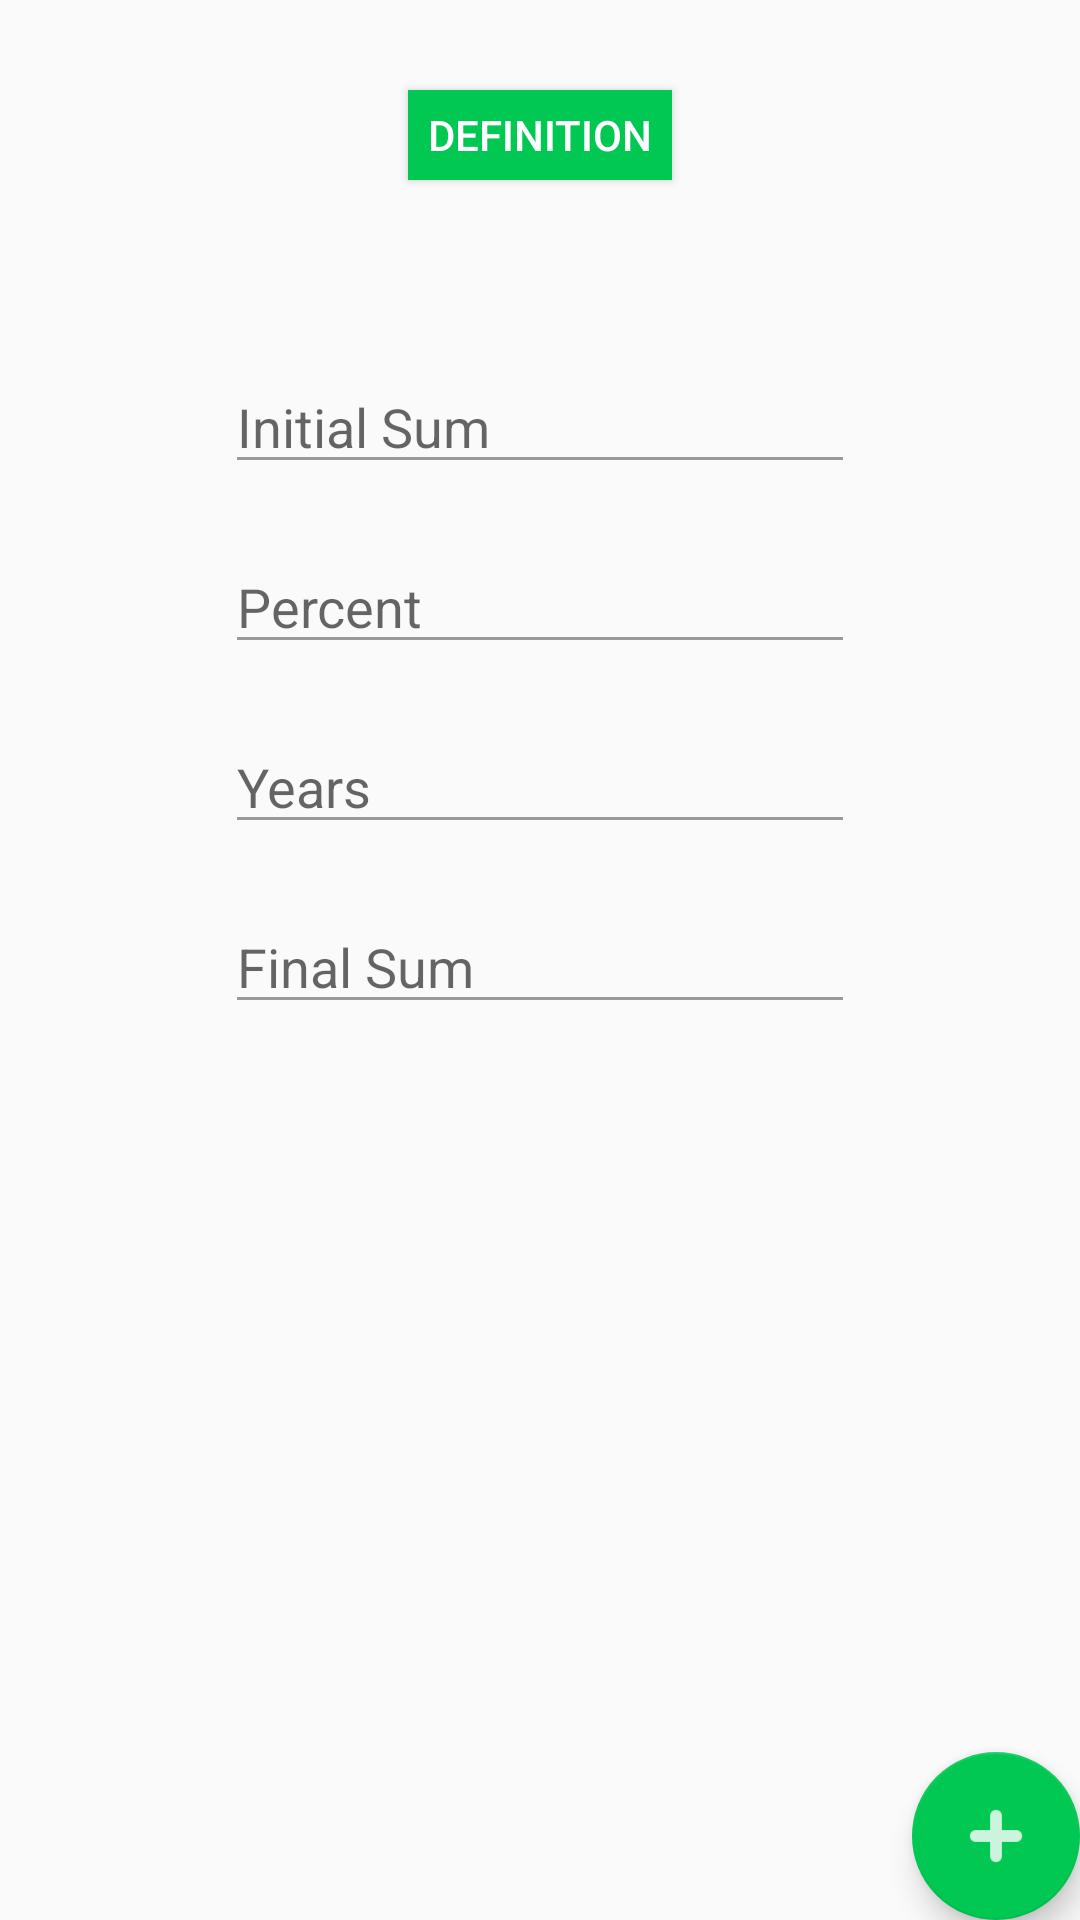

Locate icon controls on the screen. Image size 1080x1920, boxes as (x1, y1, x2, y2).
plus: (912, 1752, 1080, 1920)
